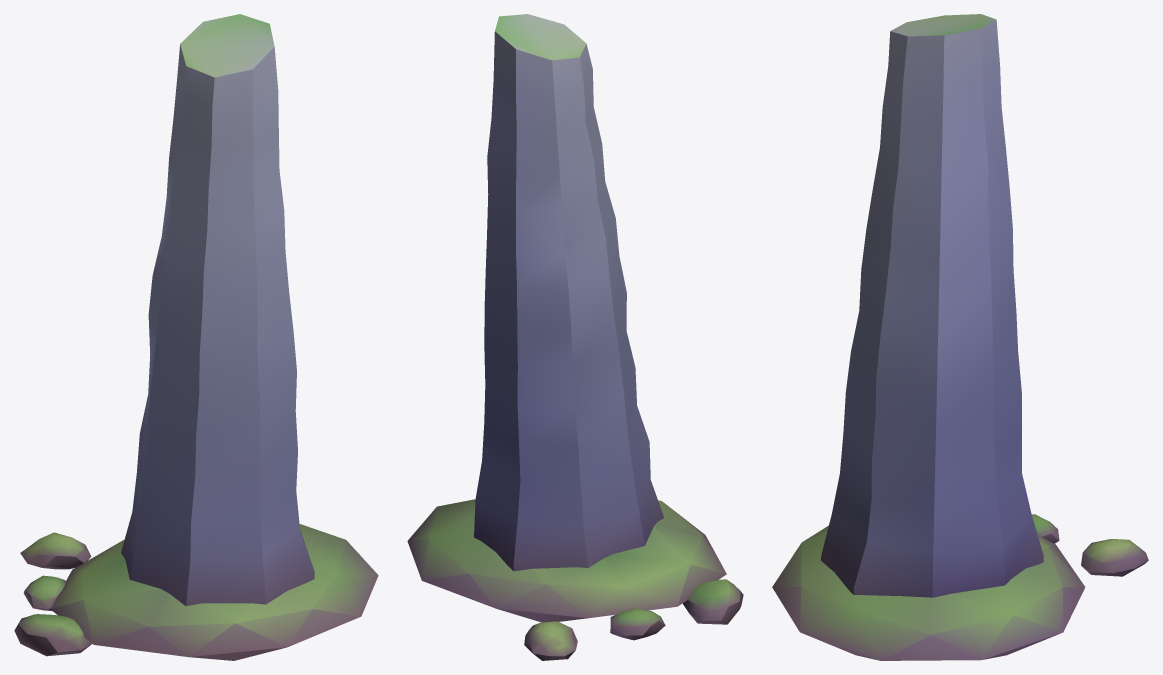
The model's file is verdant_rock_menhir_a.glb.
3 views of the same model, side by side, from view 1: azimuth 30°, elevation 25°; view 2: azimuth 150°, elevation 25°; view 3: azimuth 270°, elevation 25° (orthographic). The views are drawn at different scales.
Visible parts, largest first — view 1: verdant_rock_menhir_a; view 2: verdant_rock_menhir_a; view 3: verdant_rock_menhir_a.
Boxes of the visible parts, x1,y1,x2,y2 form: verdant_rock_menhir_a: (14,14,378,660); verdant_rock_menhir_a: (407,14,743,660); verdant_rock_menhir_a: (772,14,1148,660).
Size of the model in its own units: 2.62 by 4.36 by 2.47.
